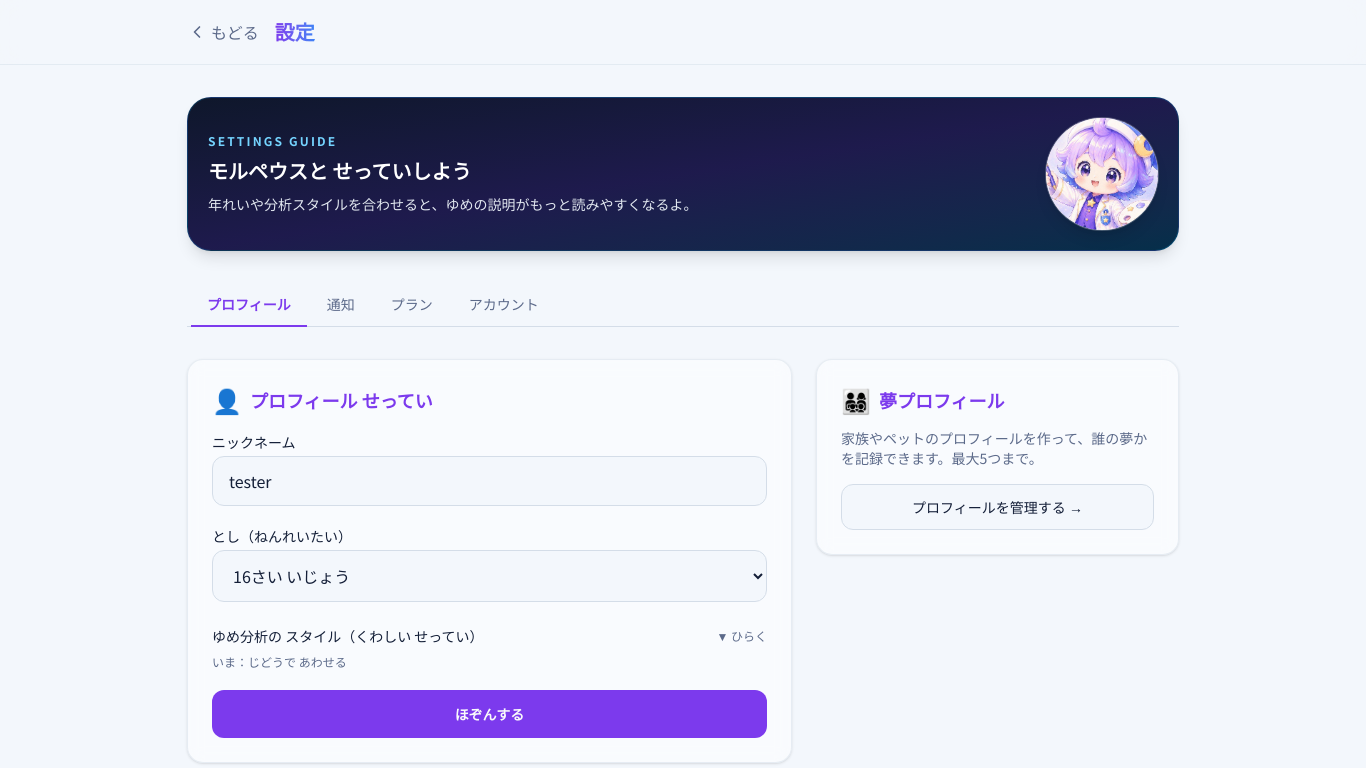
設定タブ › 既存設定を4つのタブに分け、通知では未保存のスイッチを表示しない
Expected: the field labelled "ニックネーム" is shown, [212,456,767,506]
Expected: the text "プレミアムプラン" is not shown
Press ArrowRight in the tab "プロフィール", box [191,283,307,327]
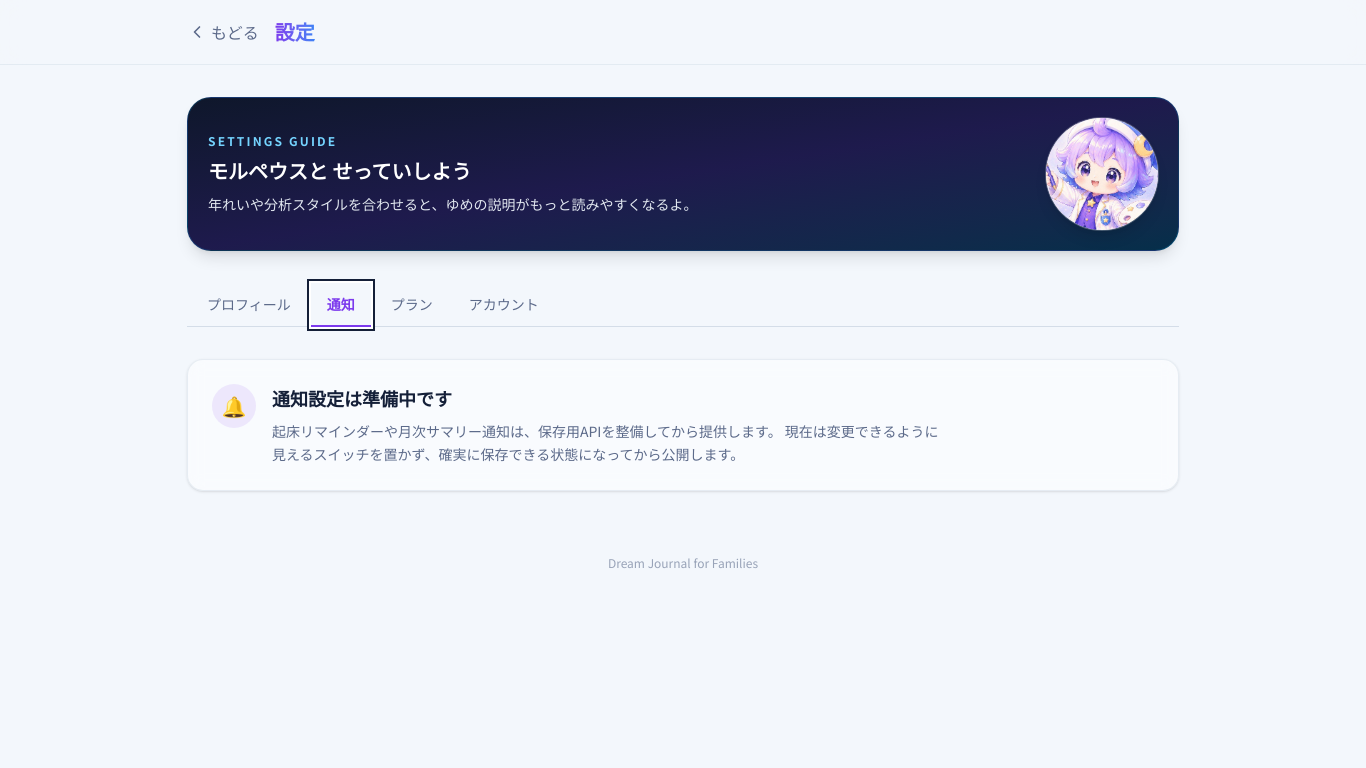
Now the heading "通知設定は準備中です" is shown, box [272,385,452,411]
Click the tab "プラン". click: (412, 305)
box: [375,283,449,327]
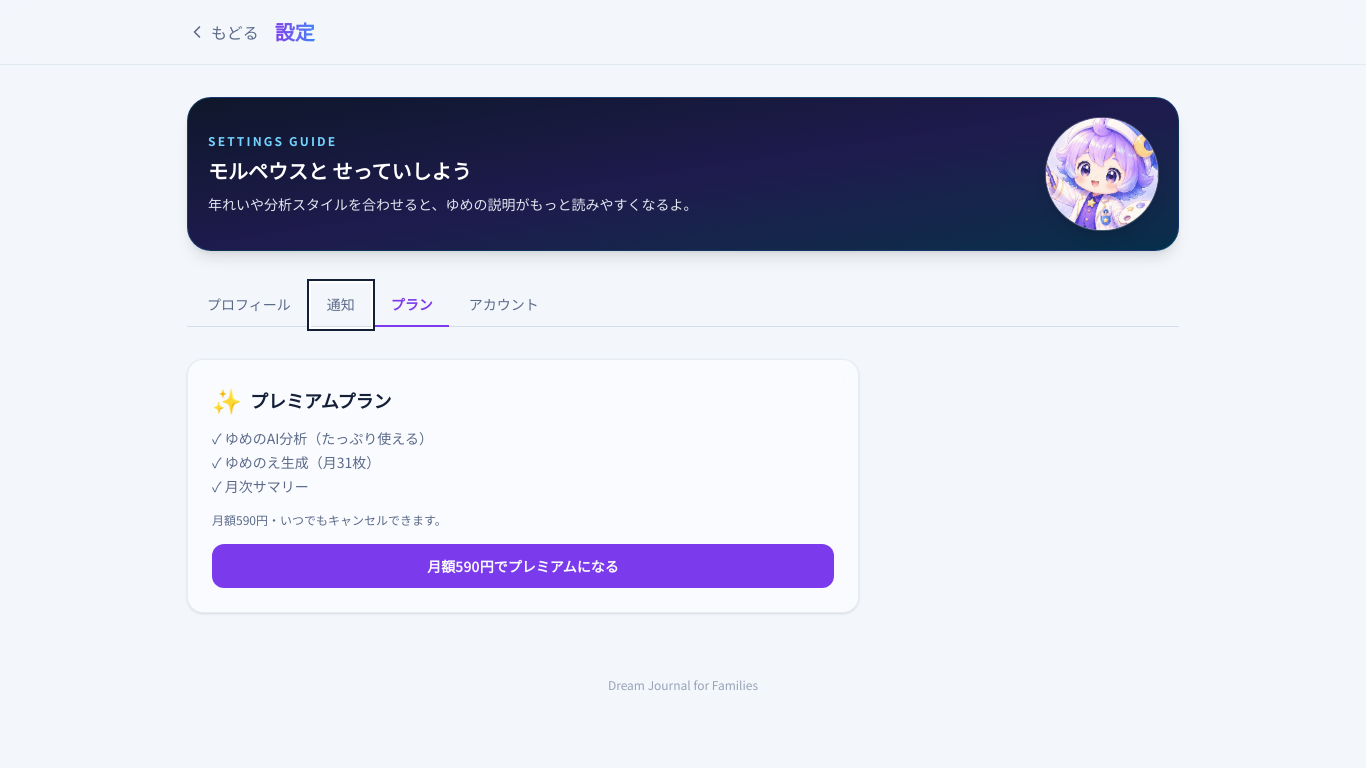
Now the heading "✨ プレミアムプラン" is shown, box [212,382,392,417]
Click the tab "アカウント". click: (504, 305)
box: [453,283,555,327]
(page scrolled)
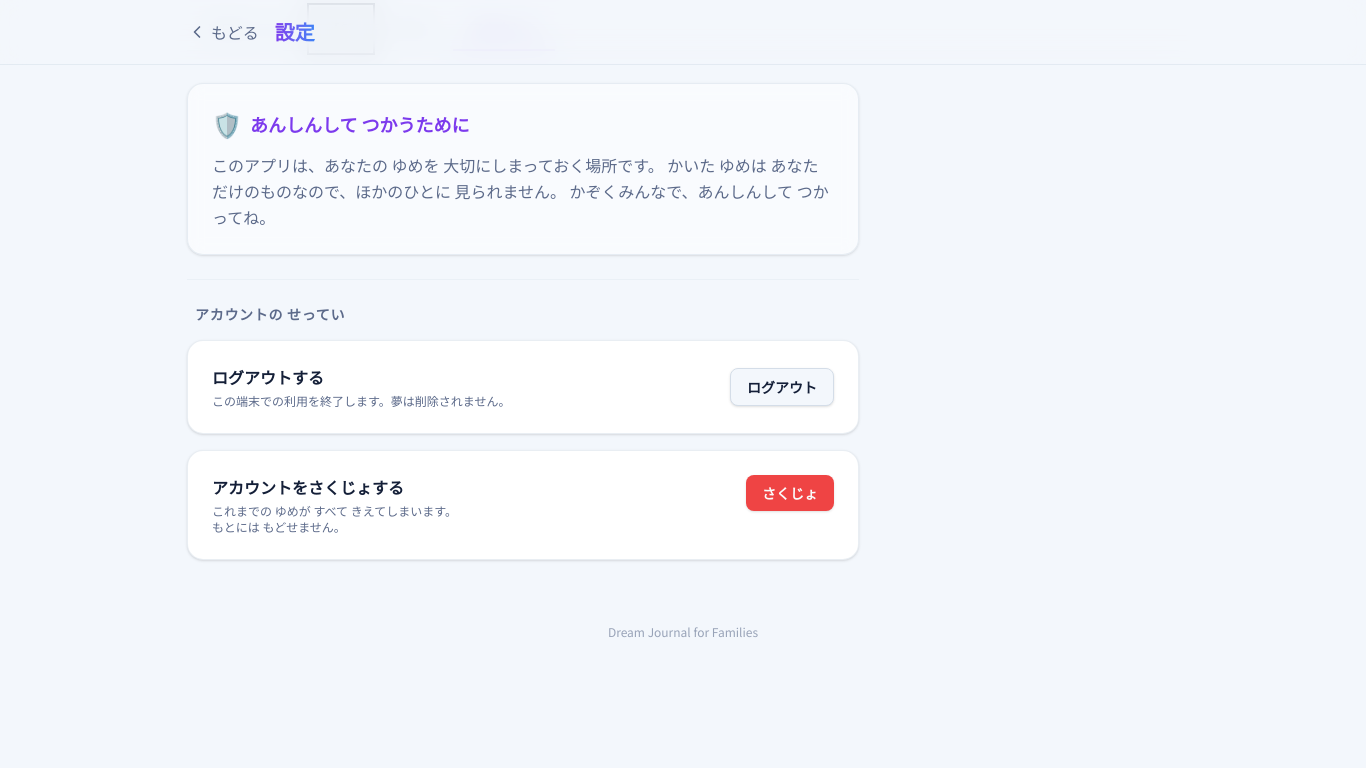
Now the heading "アカウントをさくじょする" is shown, box [212,475,404,499]
